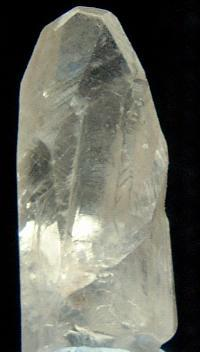calcite: (17, 6, 178, 352)
